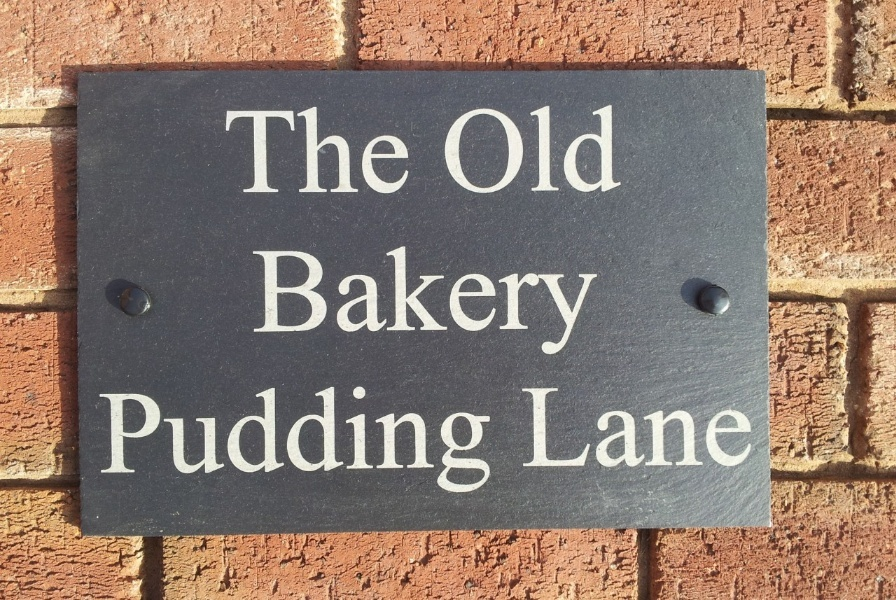text: (257, 245, 272, 355), (273, 245, 288, 355), (289, 245, 304, 355), (305, 245, 320, 355), (321, 245, 336, 355), (337, 245, 352, 355), (353, 245, 368, 355), (369, 245, 384, 355), (385, 245, 400, 355), (401, 245, 416, 355), (417, 245, 432, 355), (433, 245, 448, 355), (449, 245, 464, 355), (465, 245, 480, 355), (481, 245, 496, 355), (497, 245, 512, 355), (513, 245, 528, 355), (529, 245, 544, 355), (545, 245, 560, 355), (561, 245, 576, 355), (577, 245, 592, 355), (113, 386, 128, 495), (129, 386, 144, 495), (145, 386, 160, 495), (161, 386, 176, 495), (177, 386, 192, 495), (193, 386, 208, 495), (209, 386, 224, 495), (225, 386, 240, 495), (241, 386, 256, 495), (257, 386, 272, 495), (273, 386, 288, 495), (289, 386, 304, 495), (305, 386, 320, 495), (321, 386, 336, 495), (337, 386, 352, 495), (353, 386, 368, 495), (369, 386, 384, 495), (385, 386, 400, 495), (401, 386, 416, 495), (417, 386, 432, 495), (433, 386, 448, 495), (449, 386, 464, 495), (465, 386, 480, 495), (98, 386, 112, 495), (449, 103, 464, 195), (465, 103, 480, 195), (481, 103, 496, 195), (497, 103, 512, 195), (513, 103, 528, 195), (529, 103, 544, 195), (545, 103, 560, 195), (561, 103, 576, 195), (577, 103, 592, 195), (593, 103, 608, 195), (225, 104, 240, 195), (241, 104, 256, 195), (257, 104, 272, 195), (273, 104, 288, 195), (289, 104, 304, 195), (305, 104, 320, 195), (321, 104, 336, 195), (337, 104, 352, 195), (353, 104, 368, 195), (369, 104, 384, 195), (385, 104, 400, 195), (609, 103, 623, 195), (529, 386, 544, 468), (545, 386, 560, 468), (561, 386, 576, 468), (577, 386, 592, 468), (593, 386, 608, 468), (609, 386, 624, 468), (625, 386, 640, 468), (641, 386, 656, 468), (657, 386, 672, 468), (673, 386, 688, 468), (689, 386, 704, 468), (705, 386, 720, 468), (721, 386, 736, 468), (737, 386, 752, 468), (481, 386, 492, 495), (401, 104, 409, 195), (593, 245, 599, 355), (521, 386, 528, 468), (442, 103, 448, 195), (251, 245, 256, 355), (753, 386, 754, 468)
